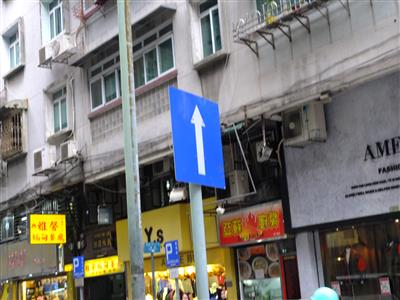oneway: (159, 76, 236, 195)
